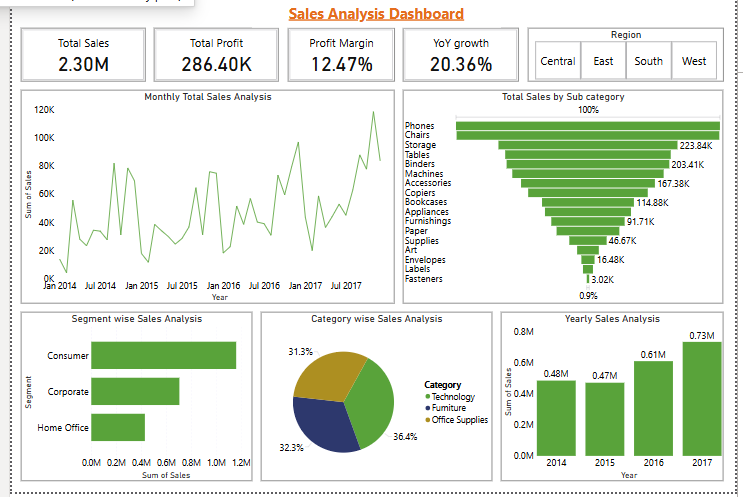

What the dashboard file says about the page in this screenshot:
{"tool":"powerbi","page":{"name":"Page 1","canvas":[2600,1800],"ordinal":0},"visuals":[{"type":"cardVisual","fields":{"Data":["Sum(Sample - Superstore.Sales)"]},"box":[32,128,448,192],"z":0},{"type":"cardVisual","fields":{"Data":["Sum(Sample - Superstore.Profit)"]},"box":[512,128,448,192],"z":1000},{"type":"cardVisual","fields":{"Data":["Sample - Superstore.Profit Margin"]},"box":[992,128,384,192],"z":2000},{"type":"cardVisual","fields":{"Data":["Sample - Superstore.YoY growth"]},"box":[1408,128,416,192],"z":3000},{"type":"lineChart","title":"Monthly Total Sales Analysis ","fields":{"Category":["Sample - Superstore.Order Date.Variation.Date Hierarchy.Year","Sample - Superstore.Order Date.Variation.Date Hierarchy.Month"],"Y":["Sum(Sample - Superstore.Sales)"]},"box":[32,352,1344,768],"z":4000},{"type":"pieChart","title":"Category wise Sales Analysis","fields":{"Y":["Sum(Sample - Superstore.Sales)"],"Category":["Sample - Superstore.Category"]},"box":[896,1152,832,608],"z":5000},{"type":"clusteredBarChart","title":"Segment wise Sales Analysis","fields":{"Category":["Sample - Superstore.Segment"],"Y":["Sum(Sample - Superstore.Sales)"]},"box":[32,1152,832,608],"z":6000},{"type":"columnChart","title":"Yearly Sales Analysis","fields":{"Category":["Sample - Superstore.Order Date.Variation.Date Hierarchy.Year"],"Y":["Sum(Sample - Superstore.Sales)"]},"box":[1760,1152,800,608],"z":7000},{"type":"funnel","title":"Total Sales by Sub category","fields":{"Category":["Sample - Superstore.Sub-Category"],"Y":["Sum(Sample - Superstore.Sales)"]},"box":[1408,352,1152,768],"z":8000},{"type":"slicer","title":"Region","fields":{"Values":["Sample - Superstore.Region"]},"box":[1856,128,704,192],"z":8001},{"type":"textbox","box":[864,32,896,96],"z":8002}]}

Visuals, with their boxes in screenshot pixels (x1, y1, x2, y2):
cardVisual - Sum(Sample - Superstore.Sales): (21,26,147,81)
cardVisual - Sum(Sample - Superstore.Profit): (156,26,283,81)
cardVisual - Sample - Superstore.Profit Margin: (292,26,400,81)
cardVisual - Sample - Superstore.YoY growth: (409,26,527,81)
"Monthly Total Sales Analysis " lineChart: (21,90,400,307)
"Category wise Sales Analysis" pieChart: (265,316,500,487)
"Segment wise Sales Analysis" clusteredBarChart: (21,316,256,487)
"Yearly Sales Analysis" columnChart: (509,316,735,487)
"Total Sales by Sub category" funnel: (409,90,735,307)
"Region" slicer: (536,26,735,81)
textbox: (256,0,509,26)
